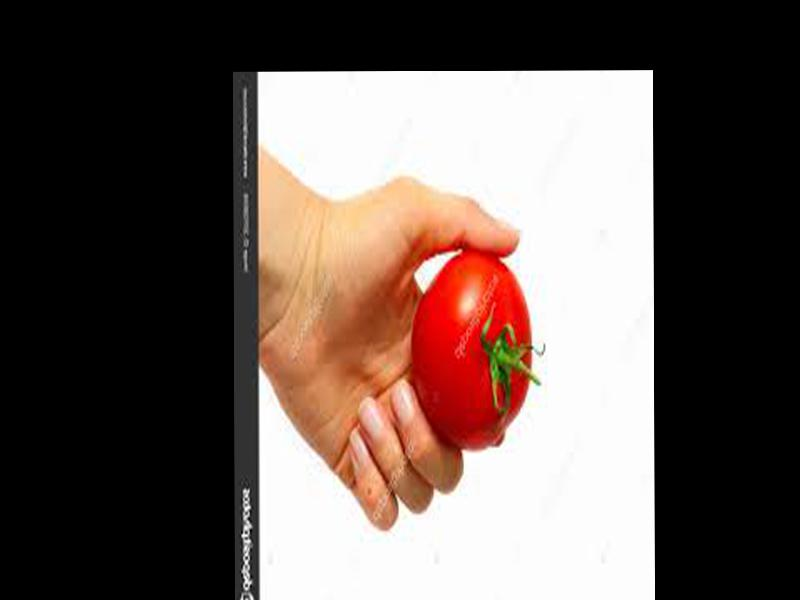Tomato: (410, 251, 533, 446)
